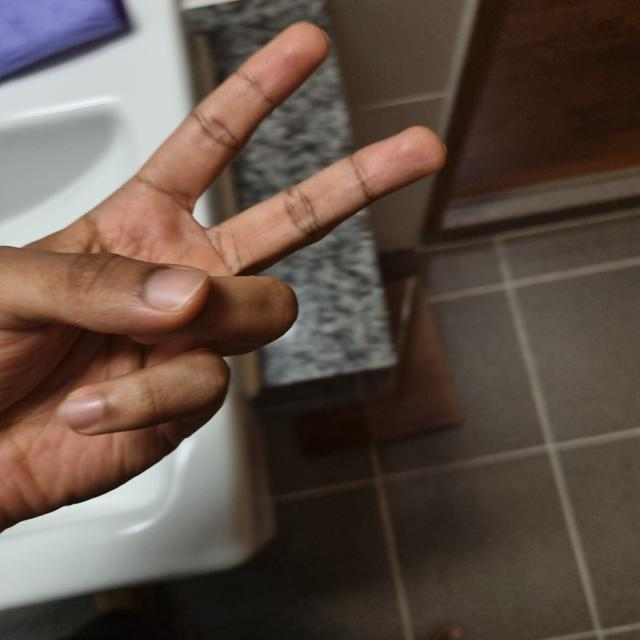Scissors: (0, 21, 442, 528)
